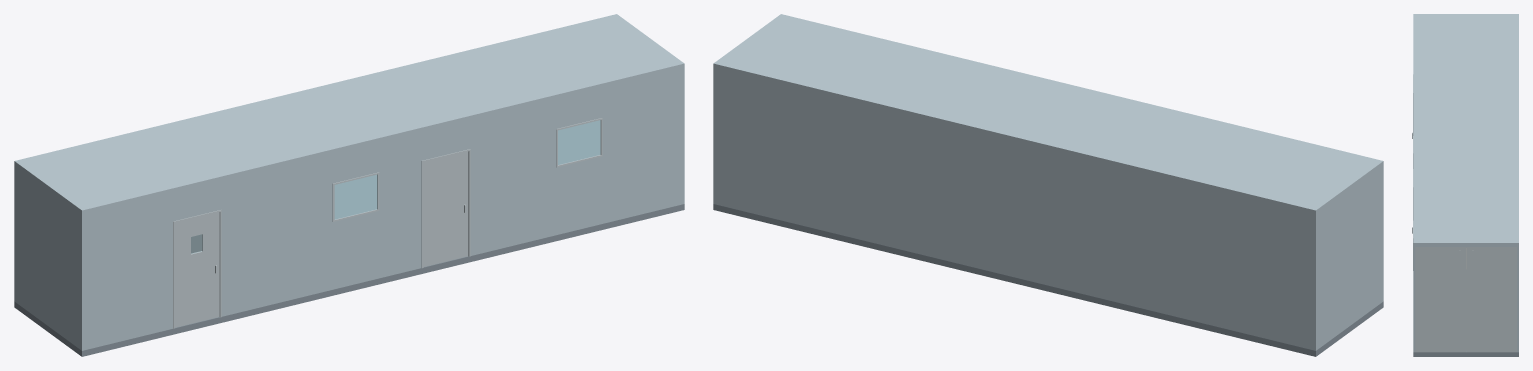
File: container.glb
The picture shows the model from 3 angles, left to right: view 1: azimuth 30°, elevation 25°; view 2: azimuth 150°, elevation 25°; view 3: azimuth 270°, elevation 25°; orthographic projection. The views are drawn at different scales.
Parts seen in each view (by area): view 1: Near_Wall, Roof, End_A, ProcessingExternalDoor, ColdExternalDoorViewed, Floor, WindowBPane1, WindowCPane1; view 2: Far_Wall, Roof, End_A, Floor; view 3: Roof, ContainerDoorLeft, ContainerDoorRight, Floor, Near_Wall, Far_Wall, ContainerLockL, ContainerLockR.
Boxes of the visible parts, x1,y1,x2,y2 form: Near_Wall: [81, 68, 684, 350]; Roof: [14, 14, 684, 215]; End_A: [15, 167, 80, 349]; ProcessingExternalDoor: [423, 151, 468, 266]; ColdExternalDoorViewed: [174, 212, 219, 327]; Floor: [14, 204, 684, 356]; WindowBPane1: [334, 174, 377, 219]; WindowCPane1: [558, 120, 600, 164]; Far_Wall: [713, 68, 1316, 350]; Roof: [713, 14, 1383, 215]; End_A: [1317, 167, 1382, 349]; Floor: [713, 204, 1383, 356]; Roof: [1413, 14, 1518, 246]; ContainerDoorLeft: [1415, 247, 1465, 352]; ContainerDoorRight: [1466, 247, 1516, 352]; Floor: [1413, 351, 1518, 356]; Near_Wall: [1413, 247, 1415, 352]; Far_Wall: [1517, 247, 1518, 352]; ContainerLockL: [1459, 250, 1460, 349]; ContainerLockR: [1472, 250, 1473, 349].
Size of the model in its own units: 12.55 by 2.91 by 2.47.
